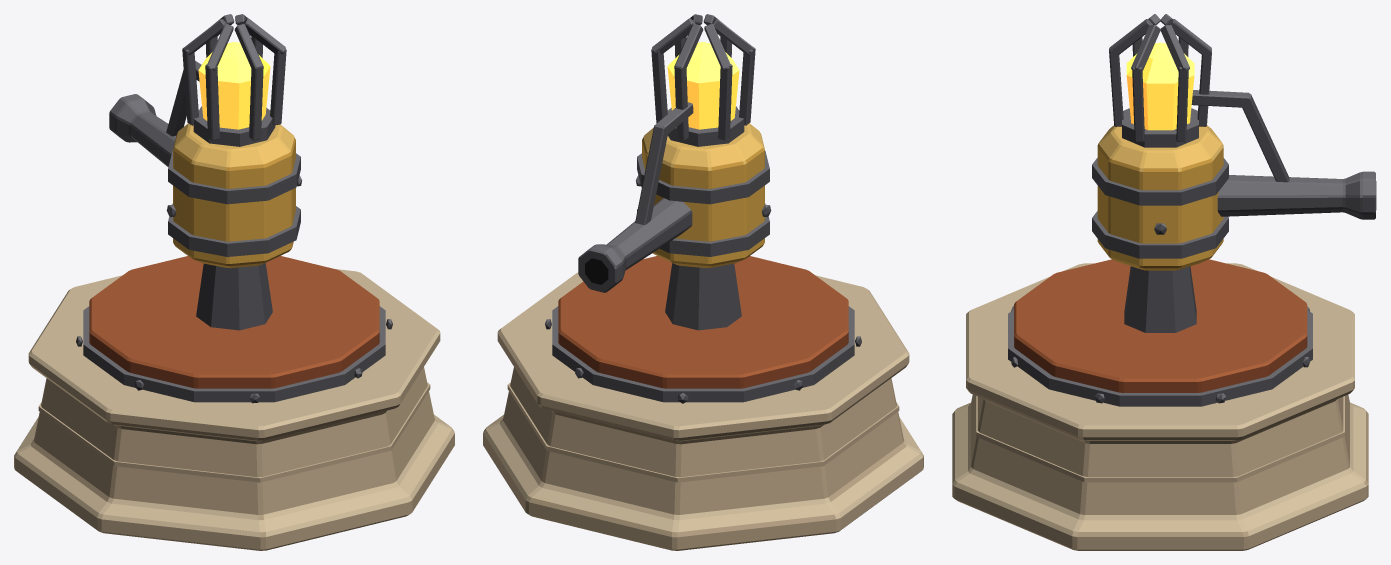
The model's file is brazier.glb.
The picture shows the model from 3 angles, left to right: view 1: azimuth 30°, elevation 25°; view 2: azimuth 150°, elevation 25°; view 3: azimuth 270°, elevation 25°; orthographic projection.
Visible parts, largest first — view 1: Base, Head; view 2: Base, Head; view 3: Base, Head.
Part boxes in pixels (x1,y1,x2,y2): Base: (14,256,454,550); Head: (109,14,302,330); Base: (483,256,923,550); Head: (578,14,771,330); Base: (952,259,1368,550); Head: (1092,14,1376,332).
Size of the model in its own units: 1.7 by 2 by 1.73.
